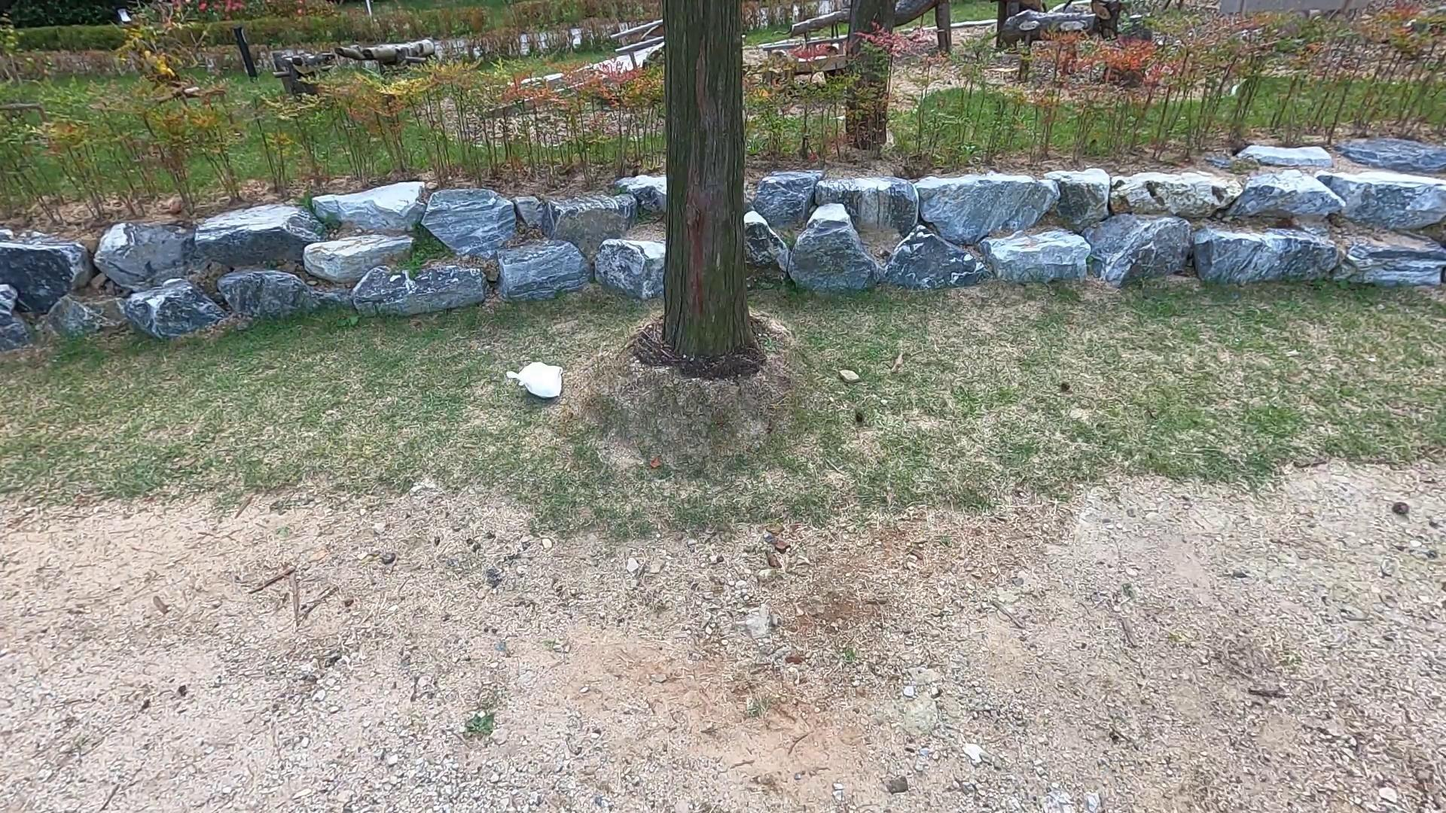trash: (502, 358, 571, 403)
